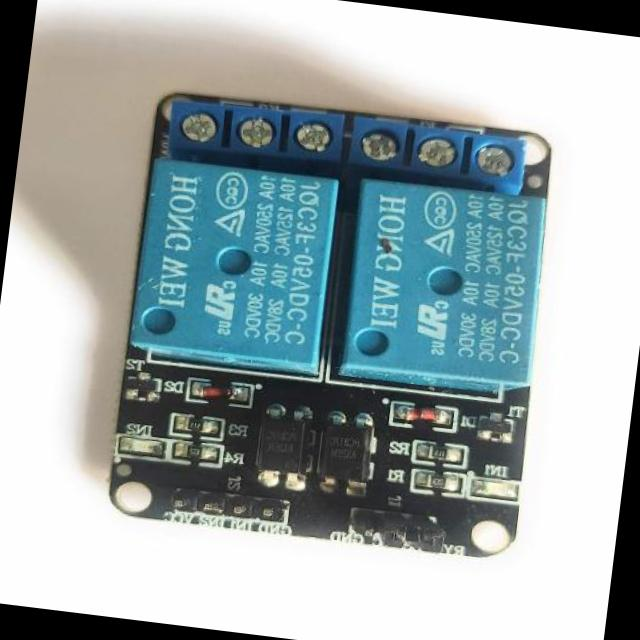IC: (249, 404, 317, 488), (314, 414, 371, 493)
LED: (470, 472, 516, 503), (115, 434, 163, 461)
connector: (146, 86, 530, 205), (163, 486, 290, 530), (345, 510, 448, 552)
diode: (184, 380, 260, 410), (390, 402, 448, 428)
resistor: (413, 470, 458, 494), (174, 438, 216, 463), (410, 442, 458, 463), (175, 416, 212, 436)
transistor: (114, 366, 160, 404), (472, 412, 519, 444)
